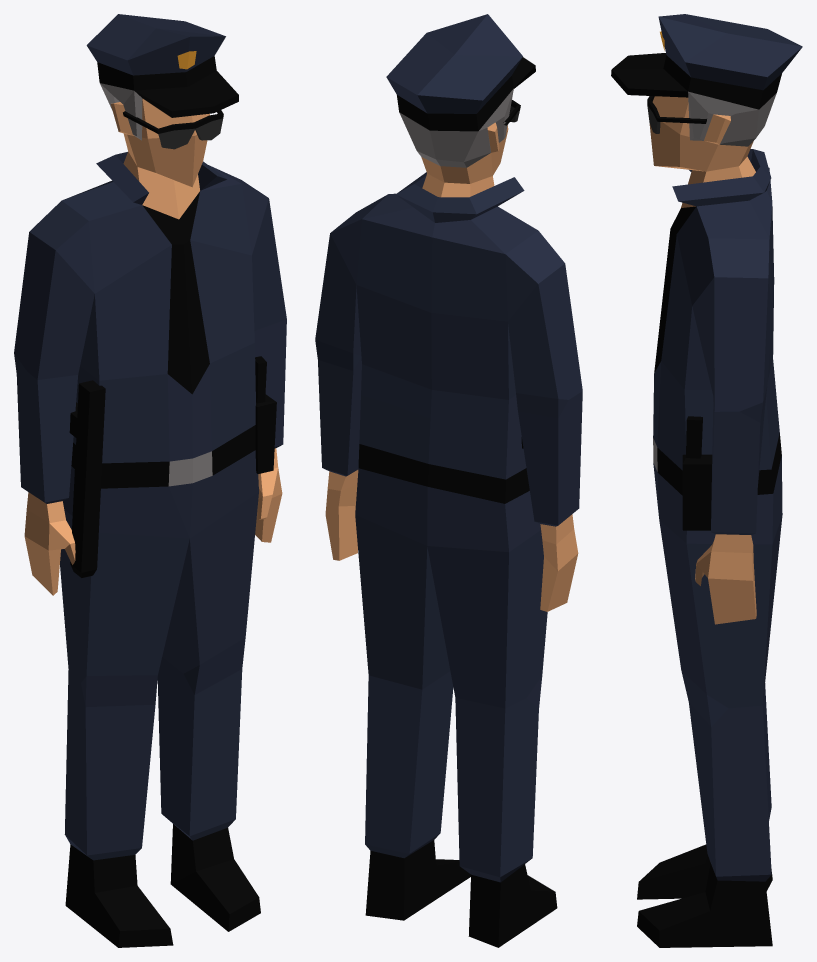
The model's file is man-police.glb.
3 views of the same model, side by side, from view 1: azimuth 30°, elevation 25°; view 2: azimuth 150°, elevation 25°; view 3: azimuth 270°, elevation 25° (orthographic). The views are drawn at different scales.
Parts seen in each view (by area): view 1: man-police; view 2: man-police; view 3: man-police.
Part boxes in pixels (x1,y1,x2,y2): man-police: (14, 14, 286, 947); man-police: (315, 14, 582, 947); man-police: (611, 14, 802, 947).
Size of the model in its own units: 0.5438 by 1.86 by 0.3613.
1 material, 1 textured.
